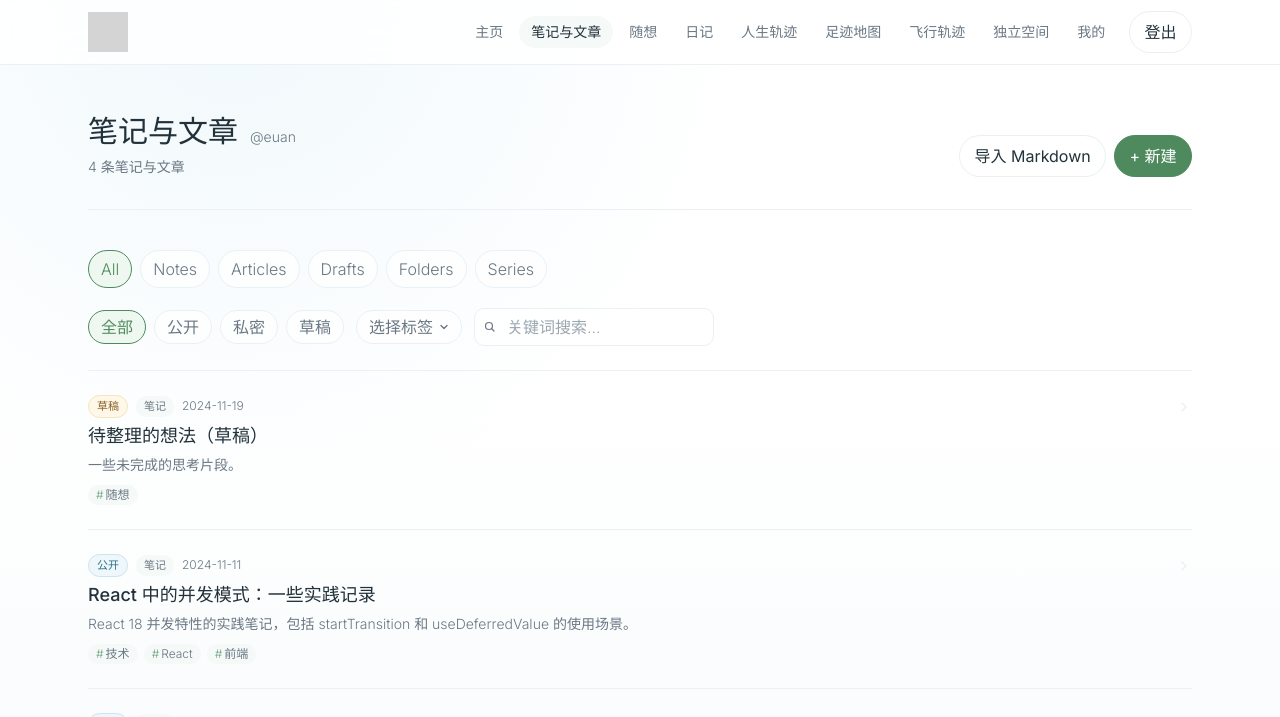
Test case: folders view › lists folders as cards rather than dumping the notes
Click the button "Folders" at (426, 269), box [386,250,466,288]
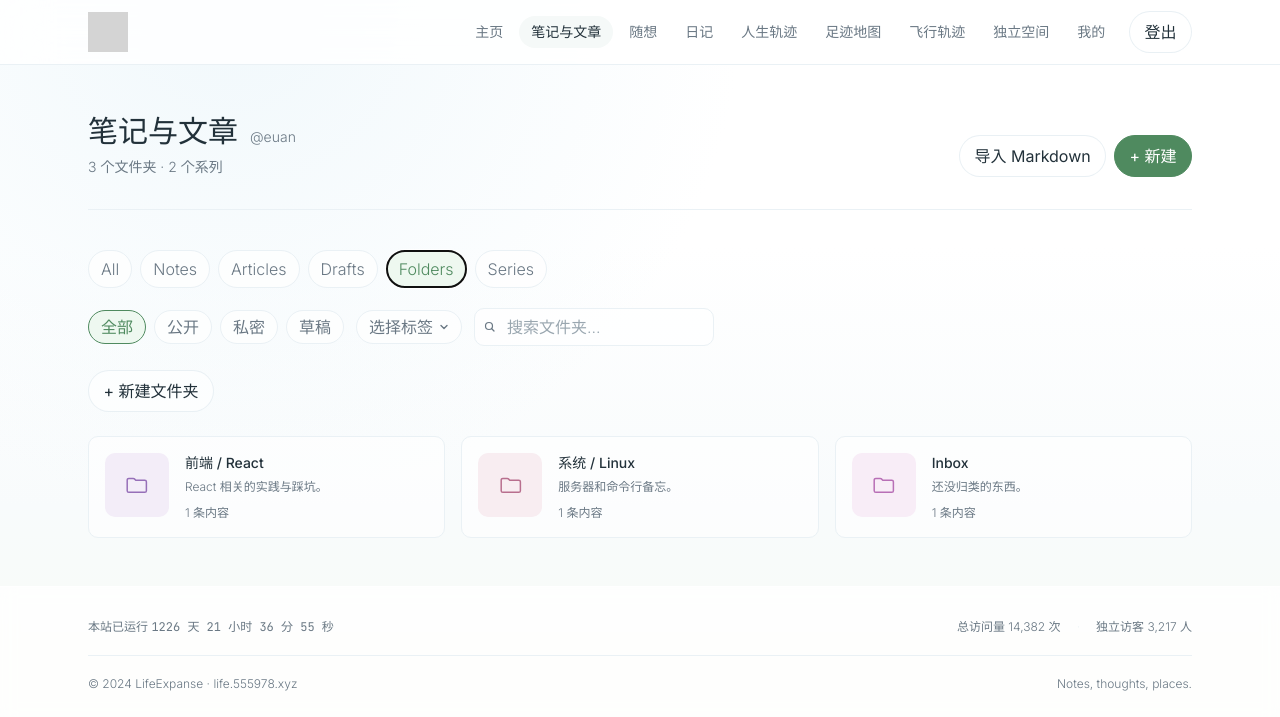
Result: the text "前端 / React" is shown at [185,454,264,471]
Result: the text "系统 / Linux" is shown at [558,454,635,471]
